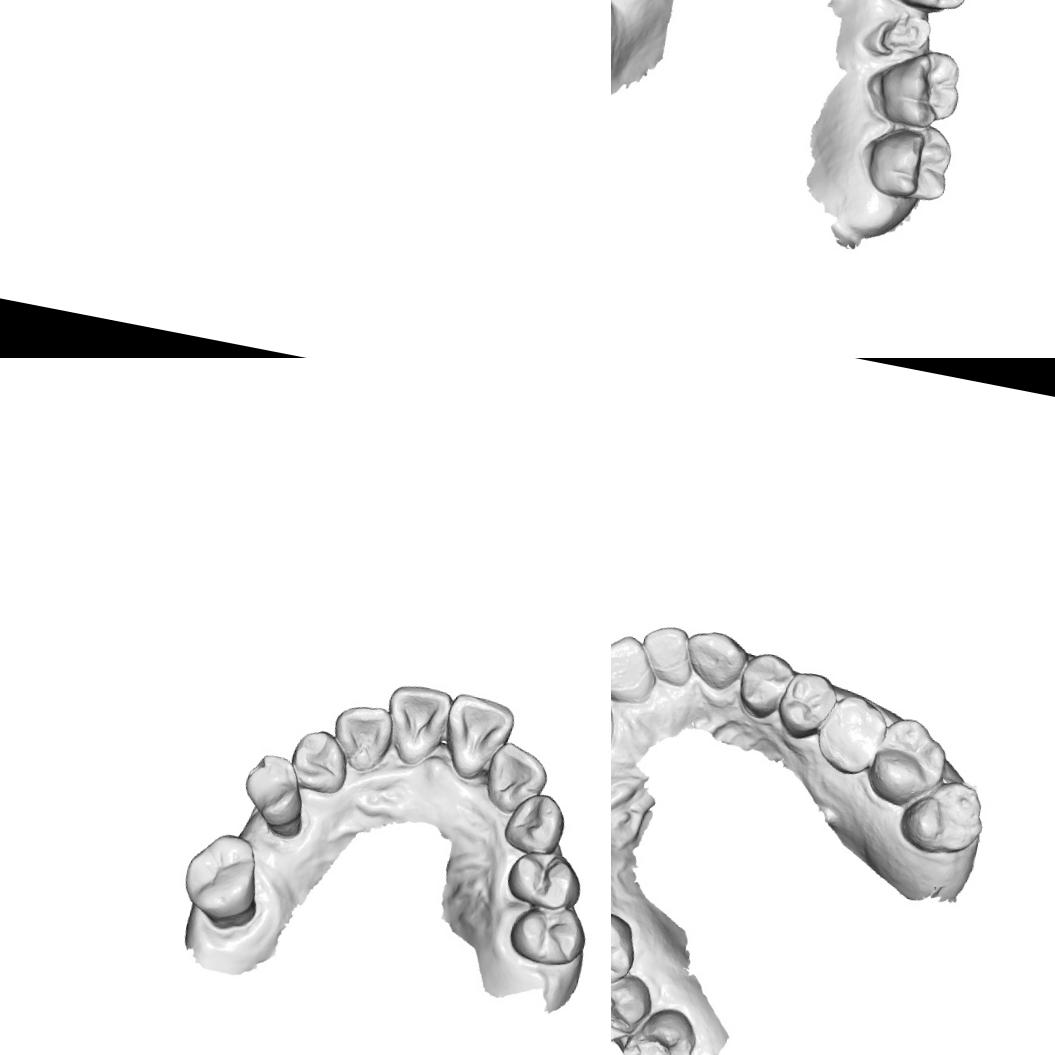canine: (678, 624, 751, 695), (285, 723, 354, 798), (501, 787, 569, 856)
incisor: (377, 675, 456, 770), (437, 690, 517, 782), (480, 738, 552, 820), (327, 696, 396, 776), (634, 620, 700, 688), (611, 627, 663, 708)
molar: (173, 824, 268, 928), (868, 38, 966, 134), (859, 114, 959, 207), (861, 712, 952, 812), (895, 771, 990, 862), (810, 688, 892, 781), (616, 999, 701, 1055), (611, 963, 657, 1050), (611, 903, 643, 991)
premolar: (503, 897, 590, 970), (502, 844, 587, 912), (772, 666, 841, 745), (237, 744, 308, 817), (732, 648, 797, 724), (881, 0, 974, 20)
